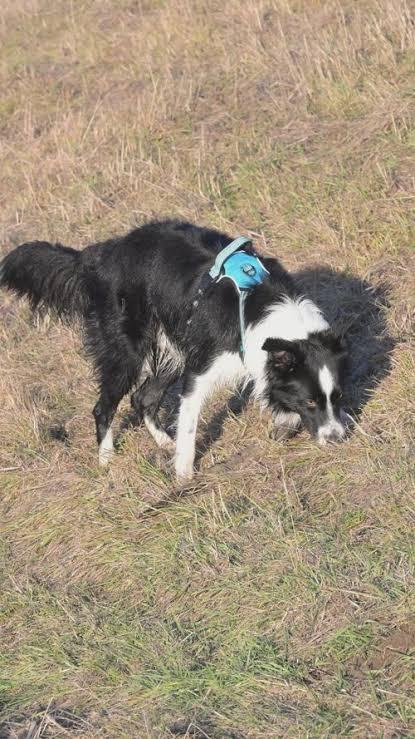adult_dog: (2, 218, 354, 486)
